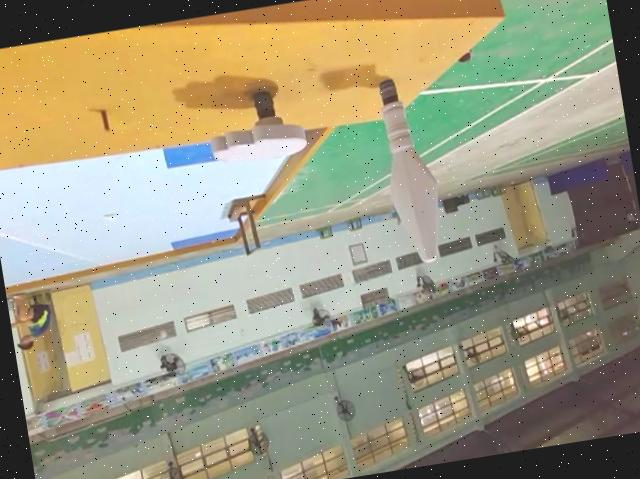Hand: (200, 81, 310, 170)
Sph: (369, 72, 452, 268)
